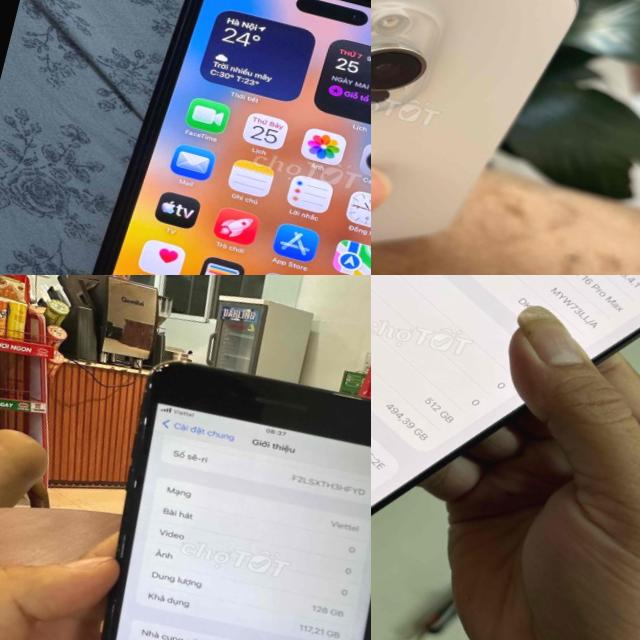gen_14: (43, 0, 371, 275)
gen_15: (371, 0, 585, 275)
gen_16: (371, 275, 640, 513)
gen_7_8: (99, 362, 371, 640)
